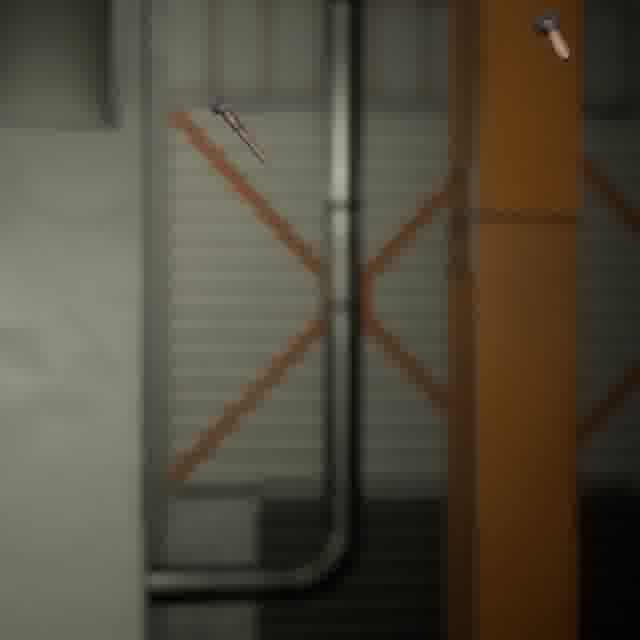bolt: (205, 91, 276, 171), (529, 7, 576, 65)
